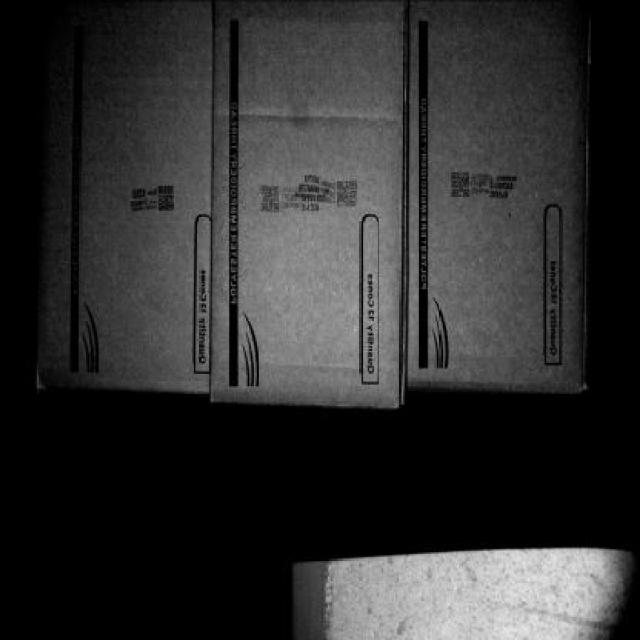cardboxes: (210, 0, 402, 408), (405, 3, 593, 388), (32, 1, 210, 397)
